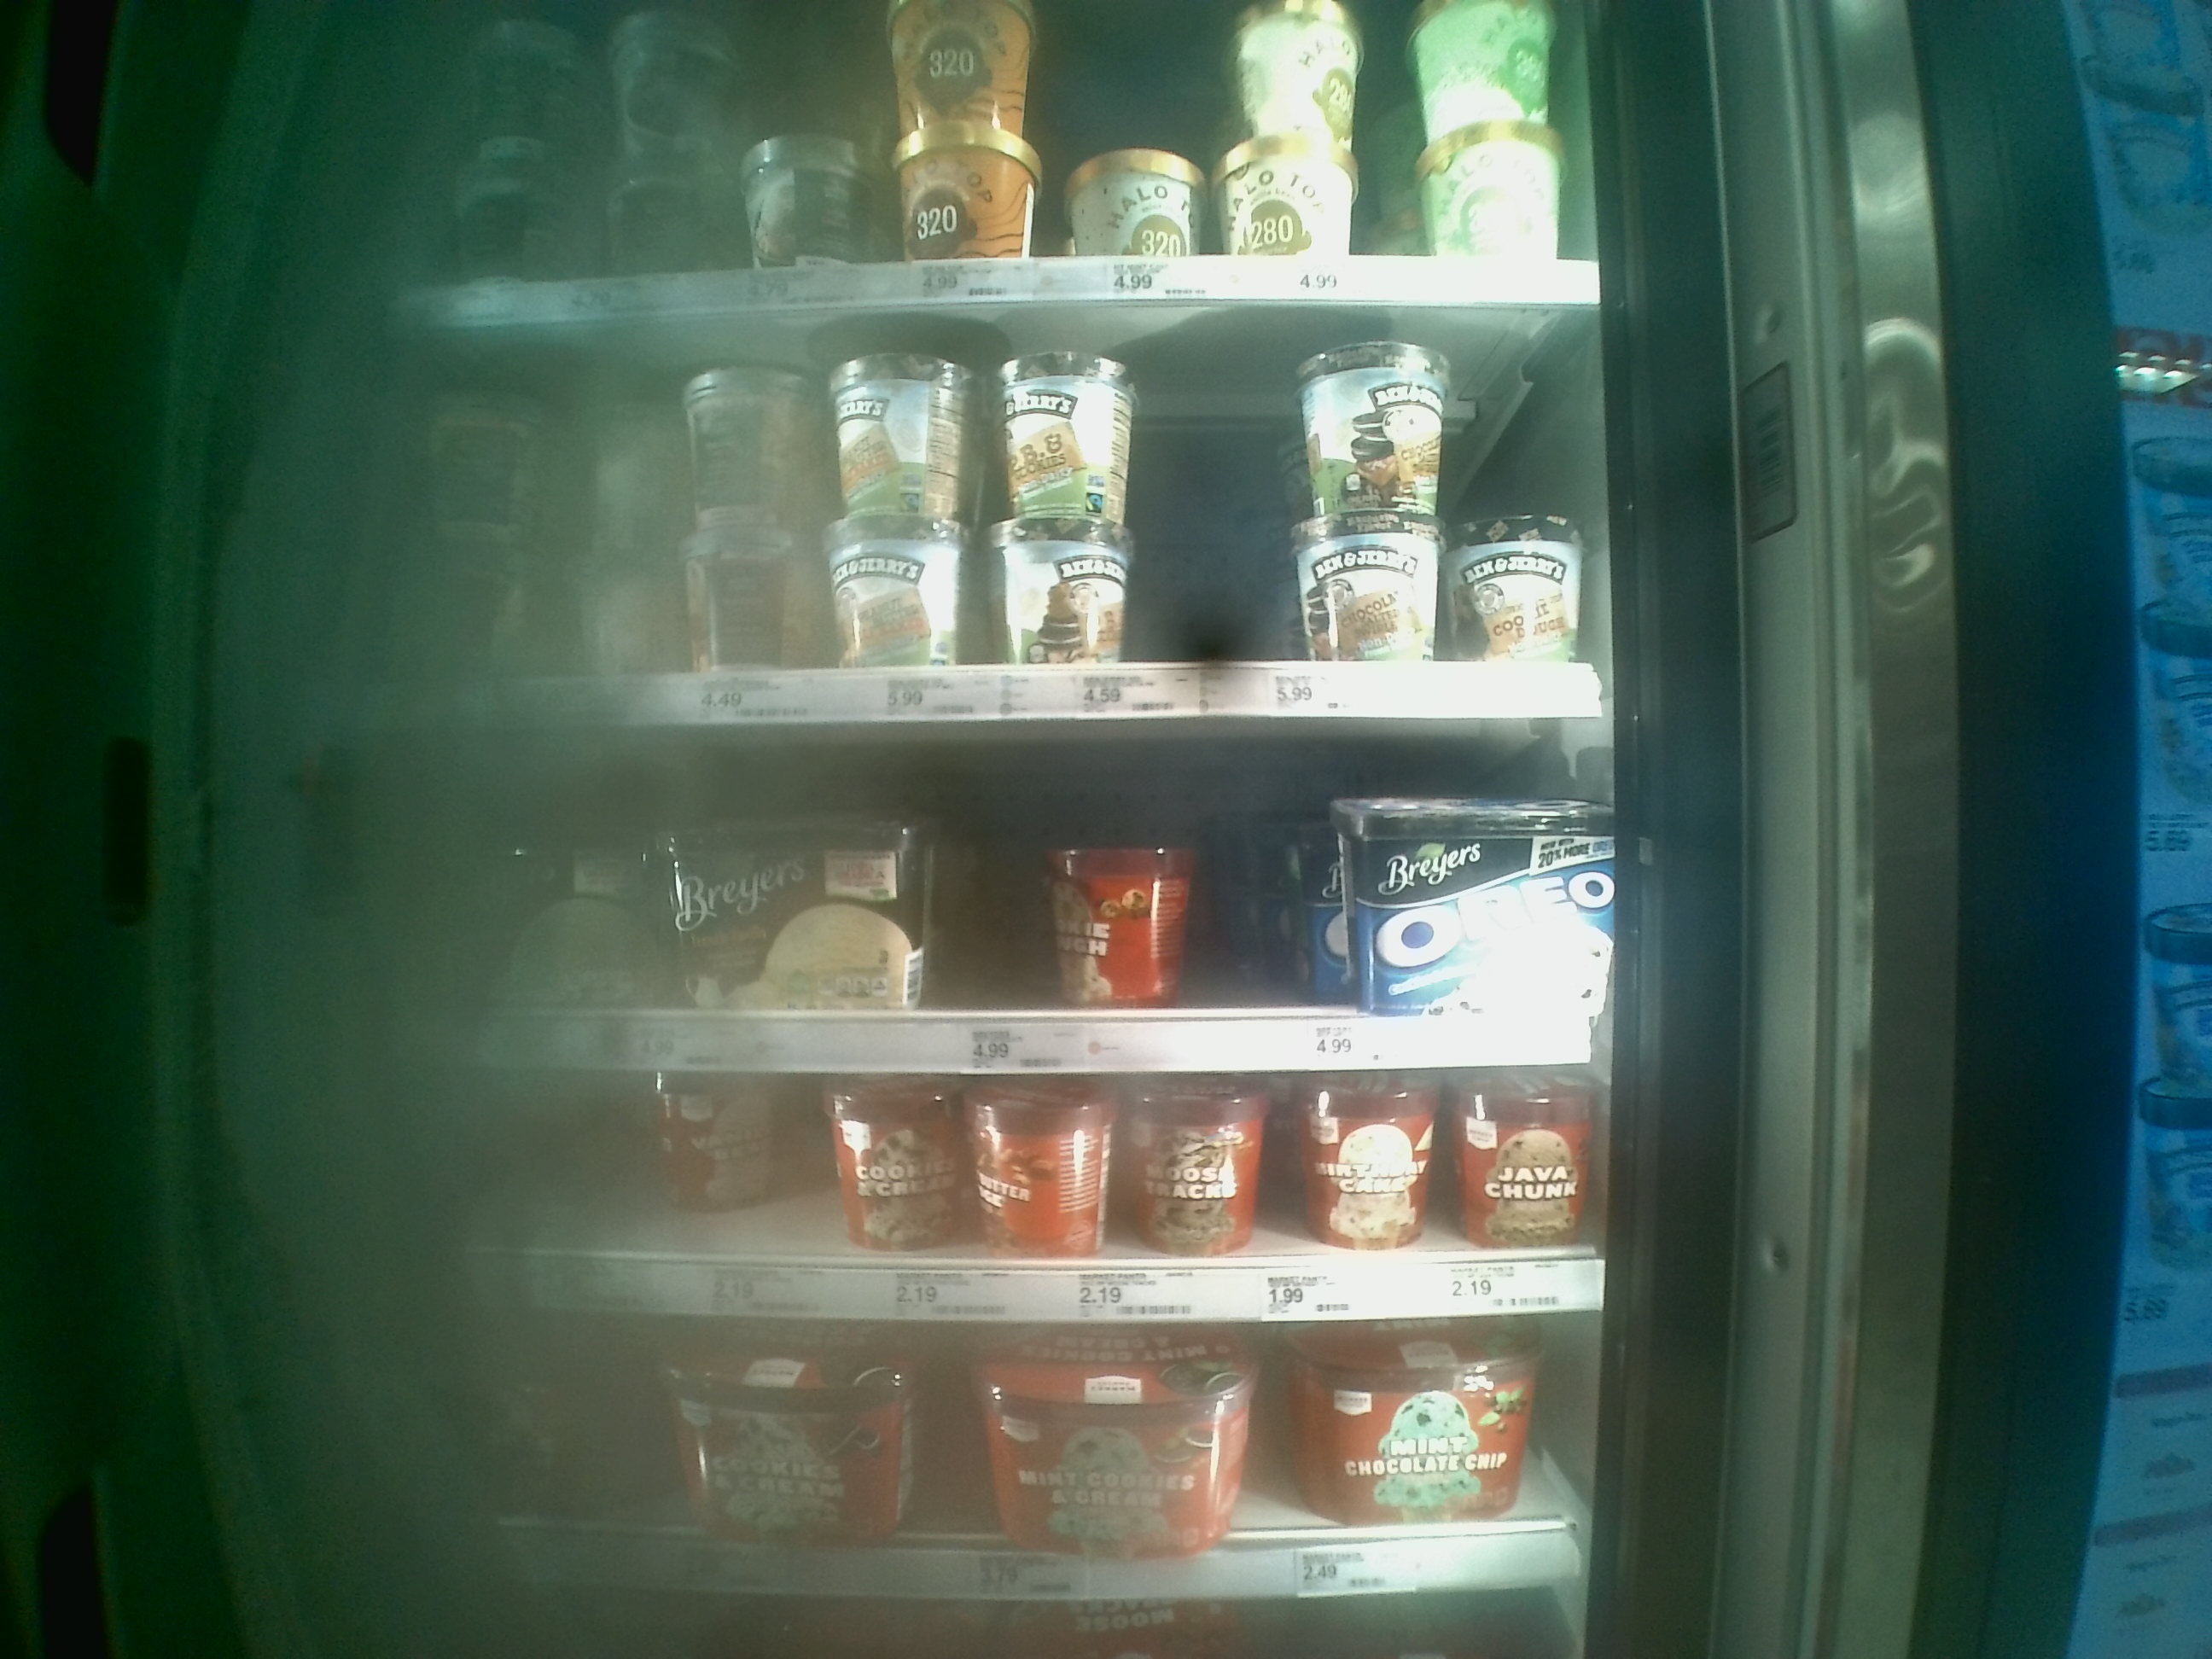ice-cream-shelf: (409, 301, 1611, 718), (404, 721, 1611, 1073), (401, 1319, 1604, 1595), (401, 1075, 1606, 1314)
